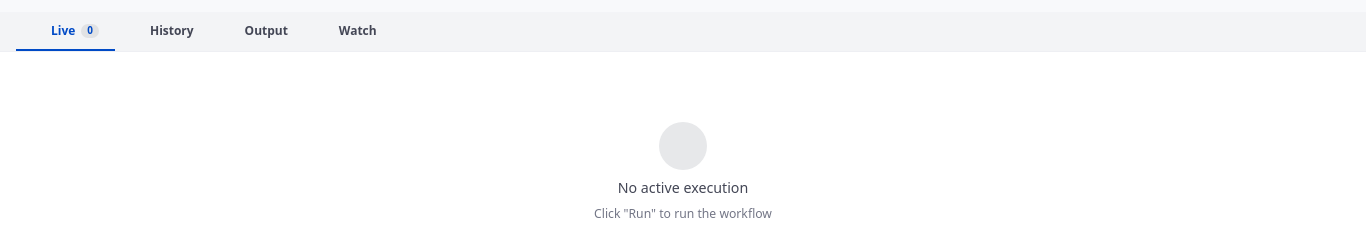
Test: ExecutionPanel › historyTab_withExecutions_rendersTableRows
This screenshot has width=1366, height=235.
Click the button "History".
click(162, 32)  # box [115, 13, 210, 51]
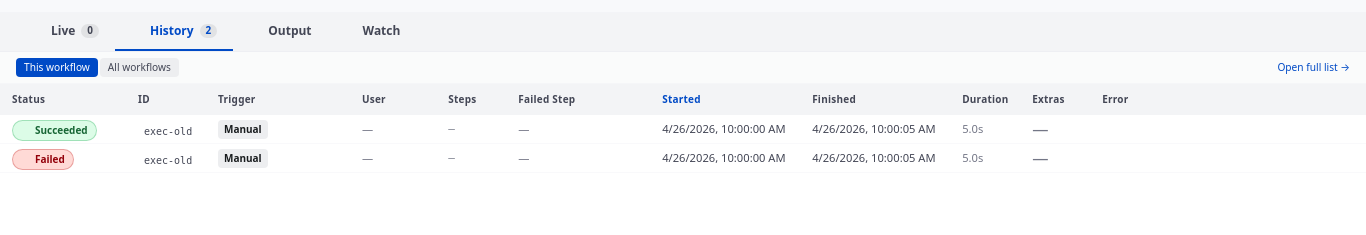
Now the number of buttons "exec-old" is 2, box [138, 122, 198, 141]; [138, 151, 198, 170]
